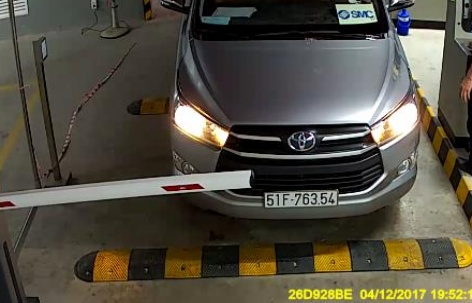plate: (257, 180, 344, 213)
